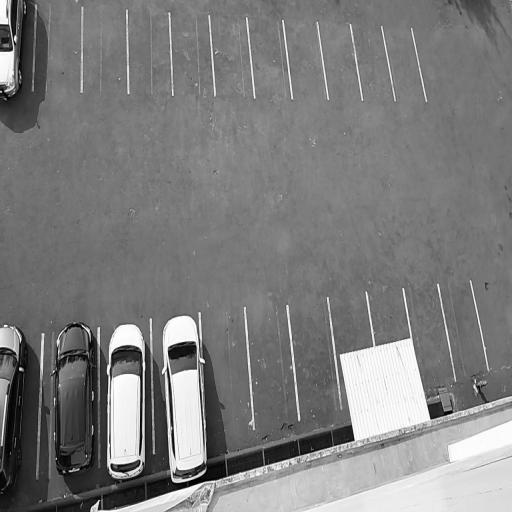Car: (157, 311, 211, 485), (104, 321, 149, 486), (52, 315, 96, 483), (0, 317, 35, 511)
Space Available: (201, 307, 253, 434), (246, 306, 298, 428), (289, 300, 341, 419), (404, 287, 455, 381), (33, 3, 81, 91), (83, 4, 127, 94), (128, 8, 173, 94), (170, 11, 214, 96), (247, 15, 292, 97), (283, 18, 328, 99), (210, 15, 254, 94), (318, 22, 362, 99), (382, 25, 426, 101), (352, 24, 395, 100), (329, 293, 373, 354), (368, 288, 412, 346)
